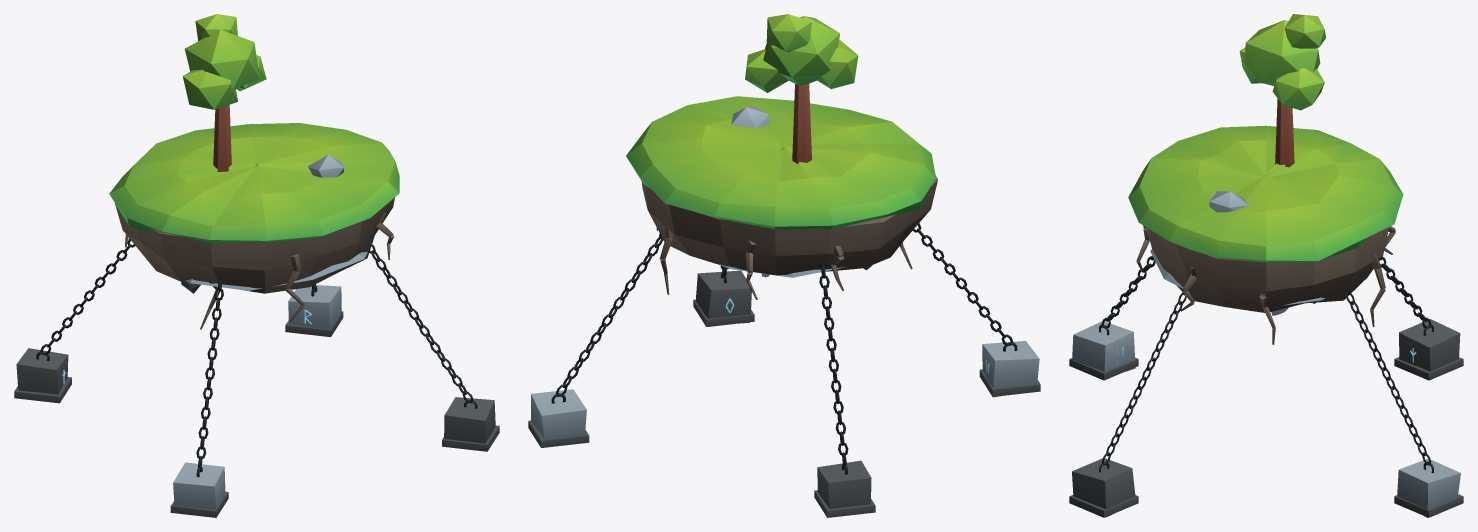
Rendered from tethered_isle.glb.
3 renders of one model, left to right at view 1: azimuth 30°, elevation 25°; view 2: azimuth 150°, elevation 25°; view 3: azimuth 270°, elevation 25°, orthographic. The views are drawn at different scales.
Parts seen in each view (by area): view 1: tethered_isle; view 2: tethered_isle; view 3: tethered_isle.
Boxes of the visible parts, x1,y1,x2,y2 form: tethered_isle: (14,14,499,517); tethered_isle: (528,14,1040,517); tethered_isle: (1069,14,1463,517).
Size of the model in its own units: 12.87 by 14.78 by 12.87.
2 materials, 2 textured.
